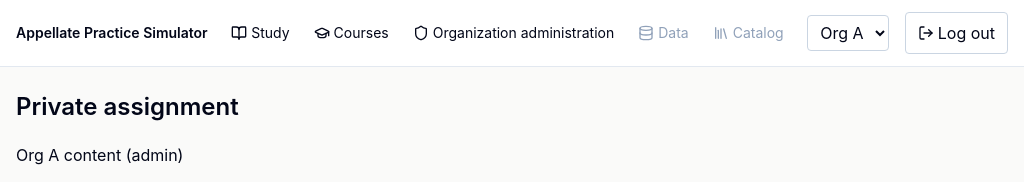
Test: OrganizationContextProvider › returns to the section root and drops resource state when switching organizations from a nested route
This screenshot has width=1024, height=182.
expect the text "Org A content (admin)" is shown: met, box x1=16 y1=145 x2=183 y2=165
expect the heading "Private assignment" is shown: met, box x1=16 y1=92 x2=239 y2=121
Select "Org B" in the dropdown named "Organization" at coordinates (848, 33), box x1=807 y1=15 x2=889 y2=51
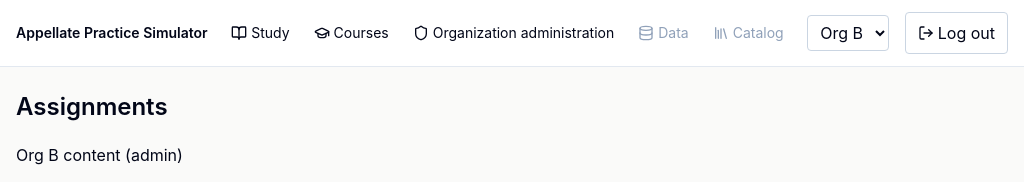
expect the text "Org A content (admin)" is gone: met
expect the heading "Private assignment" is gone: met
expect the text "Org B content (admin)" is shown: met, box x1=16 y1=145 x2=183 y2=165
